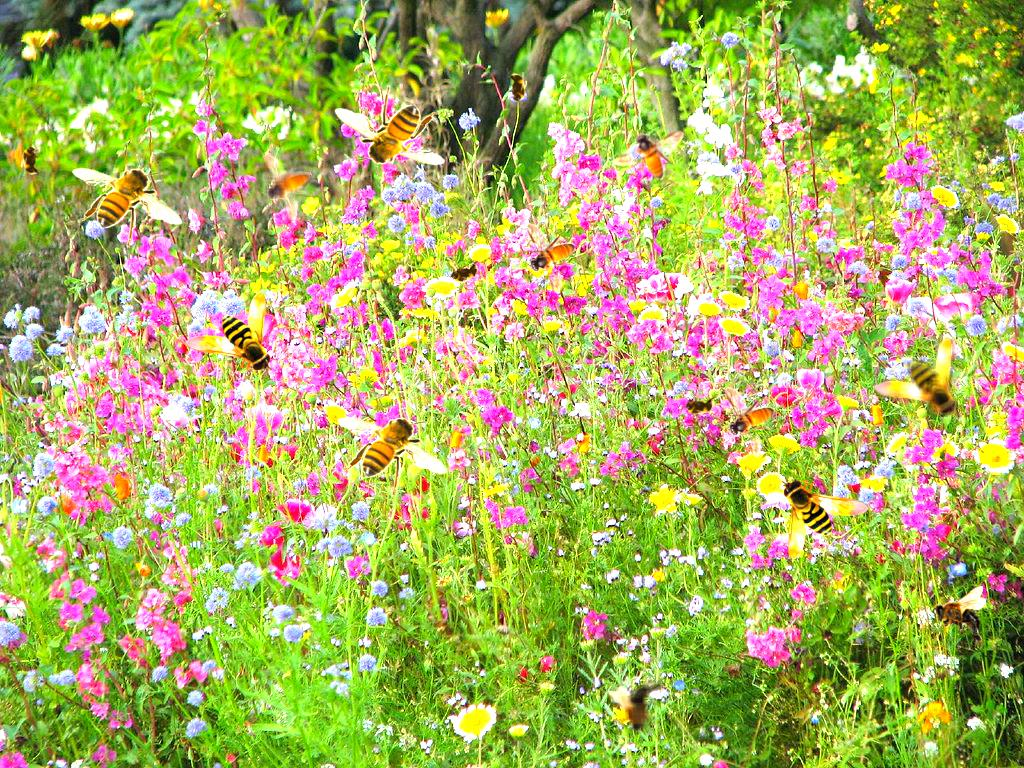Bee: (337, 403, 448, 497), (72, 154, 183, 248), (334, 85, 445, 179), (781, 477, 869, 559), (185, 292, 273, 374), (872, 337, 960, 419), (604, 675, 675, 739), (526, 223, 576, 294), (725, 387, 775, 458), (613, 130, 684, 180), (262, 152, 312, 223), (933, 586, 986, 648), (442, 257, 486, 289), (19, 139, 43, 181), (506, 68, 528, 108), (679, 395, 719, 417)
